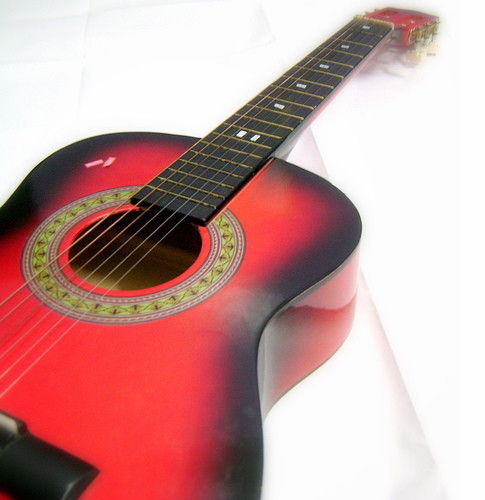guitar: (1, 8, 440, 495)
